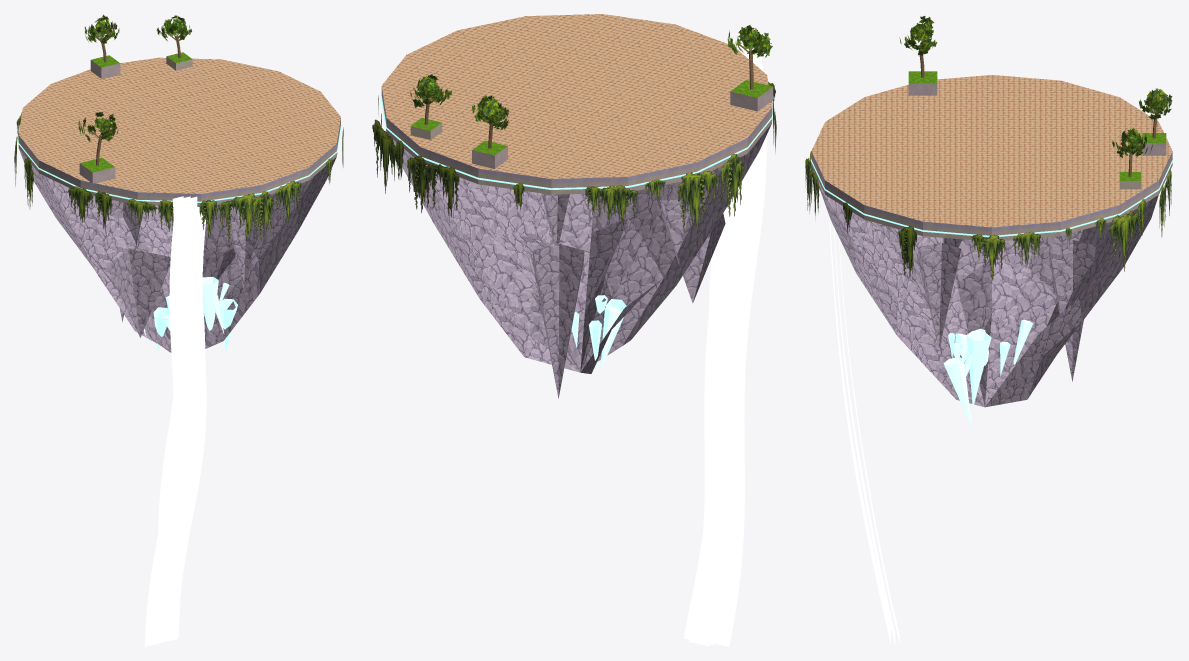
File: SKY_ISLAND_10.glb
3 views of the same model, side by side, from view 1: azimuth 30°, elevation 25°; view 2: azimuth 150°, elevation 25°; view 3: azimuth 270°, elevation 25° (orthographic). The views are drawn at different scales.
Parts seen in each view (by area): view 1: S_Crystal_Skin.001, CL_W_CrystalFall.001, S_Crystal_Moss.001, S_Crystal_Trees.001, S_Crystal_Crystals.001; view 2: S_Crystal_Skin.001, CL_W_CrystalFall.001, S_Crystal_Moss.001, S_Crystal_Trees.001, S_Crystal_Crystals.001; view 3: S_Crystal_Skin.001, S_Crystal_Moss.001, CL_W_CrystalFall.001, S_Crystal_Crystals.001, S_Crystal_Trees.001.
Part boxes in pixels (left/top/right/bottom): S_Crystal_Skin.001: left=17, top=52, right=341, bottom=352; CL_W_CrystalFall.001: left=144, top=196, right=206, bottom=646; S_Crystal_Moss.001: left=14, top=112, right=343, bottom=241; S_Crystal_Trees.001: left=78, top=14, right=191, bottom=165; S_Crystal_Crystals.001: left=143, top=277, right=237, bottom=353; S_Crystal_Skin.001: left=380, top=14, right=773, bottom=398; CL_W_CrystalFall.001: left=683, top=52, right=766, bottom=646; S_Crystal_Moss.001: left=372, top=82, right=776, bottom=232; S_Crystal_Trees.001: left=410, top=25, right=772, bottom=148; S_Crystal_Crystals.001: left=571, top=295, right=626, bottom=371; S_Crystal_Skin.001: left=810, top=71, right=1173, bottom=407; S_Crystal_Moss.001: left=805, top=151, right=1171, bottom=280; CL_W_CrystalFall.001: left=829, top=216, right=899, bottom=645; S_Crystal_Crystals.001: left=943, top=319, right=1032, bottom=426; S_Crystal_Trees.001: left=899, top=16, right=1172, bottom=176.
Bounding box in the file's own units: 34.69 × 61.3 × 34.74.
10 materials, 7 textured.
